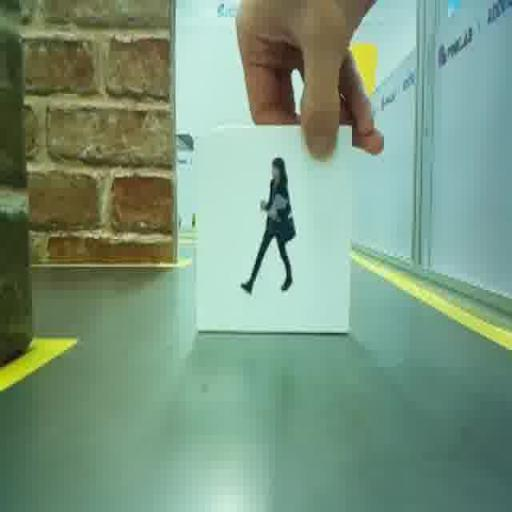human: (240, 157, 295, 293)
